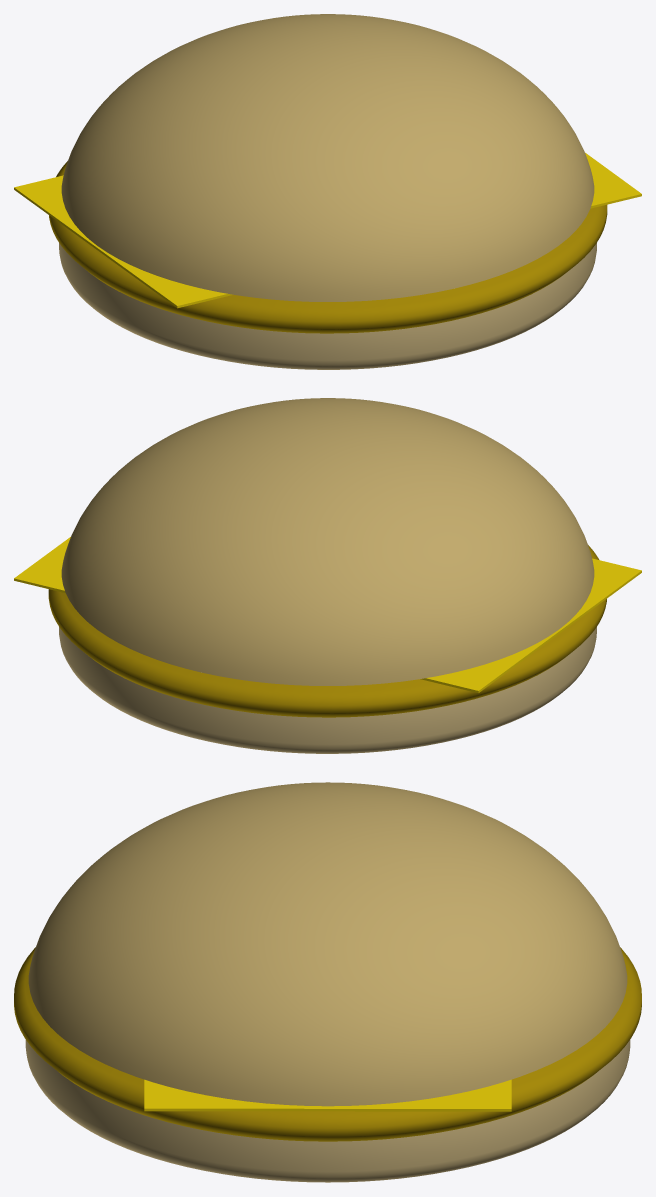
File: hamburger_blender.dae
3 renders of one model, top to bottom at view 1: azimuth 30°, elevation 25°; view 2: azimuth 150°, elevation 25°; view 3: azimuth 270°, elevation 25°, orthographic. The views are drawn at different scales.
Parts seen in each view (by area): view 1: Sphere, Cylinder, Cylinder_1, Cube; view 2: Sphere, Cylinder, Cylinder_1, Cube; view 3: Sphere, Cylinder, Cylinder_1, Cube.
Part boxes in pixels (x1,y1,x2,y2): Sphere: [61, 14, 594, 301]; Cylinder: [59, 243, 596, 369]; Cylinder_1: [49, 161, 607, 333]; Cube: [14, 152, 641, 308]; Sphere: [61, 398, 594, 685]; Cylinder: [59, 627, 596, 753]; Cylinder_1: [48, 545, 606, 717]; Cube: [14, 537, 641, 693]; Sphere: [28, 782, 627, 1106]; Cylinder: [25, 1040, 630, 1182]; Cylinder_1: [14, 947, 641, 1141]; Cube: [144, 1079, 511, 1111].
Bounding box in the file's own units: 4.1 × 4.1 × 1.71.
